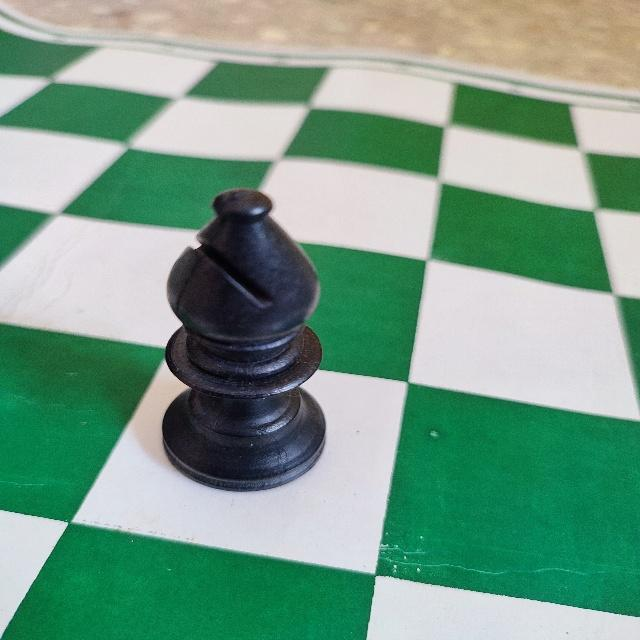Bishop: (159, 183, 334, 498)
